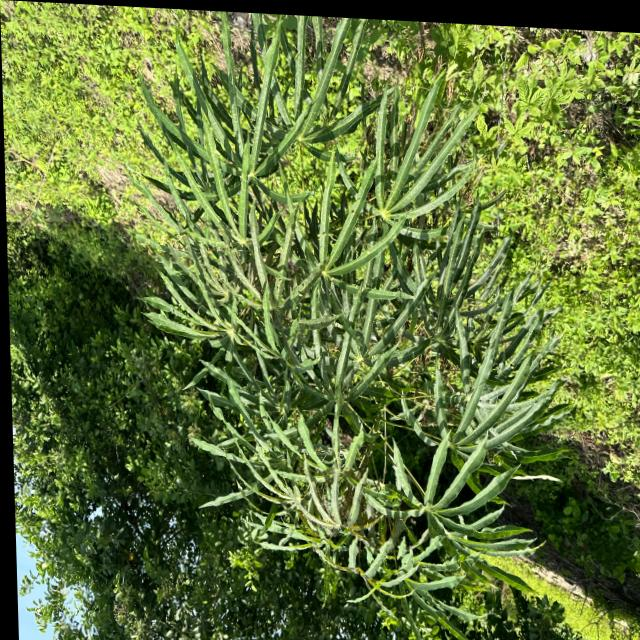Maleza: (7, 382, 202, 635), (0, 96, 131, 404), (495, 27, 640, 257), (0, 0, 143, 170), (565, 173, 640, 462)
Mosca: (274, 271, 284, 289), (317, 227, 328, 242), (296, 276, 308, 287), (348, 206, 358, 215)
